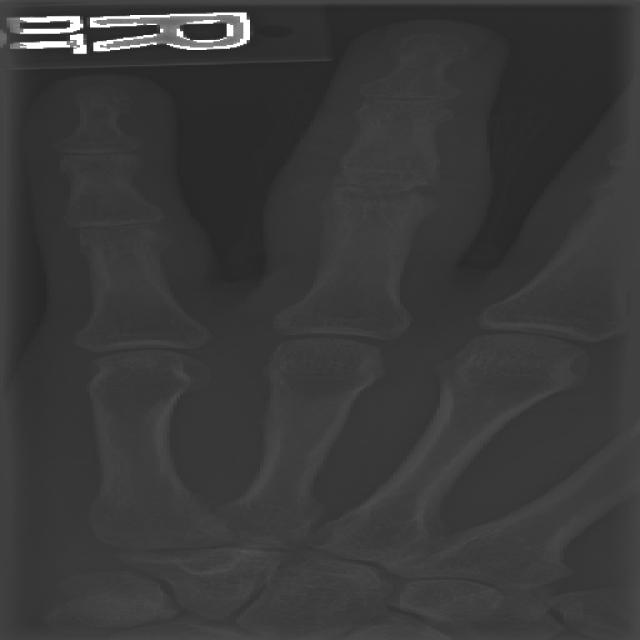fingers positive: (303, 164, 468, 229)
